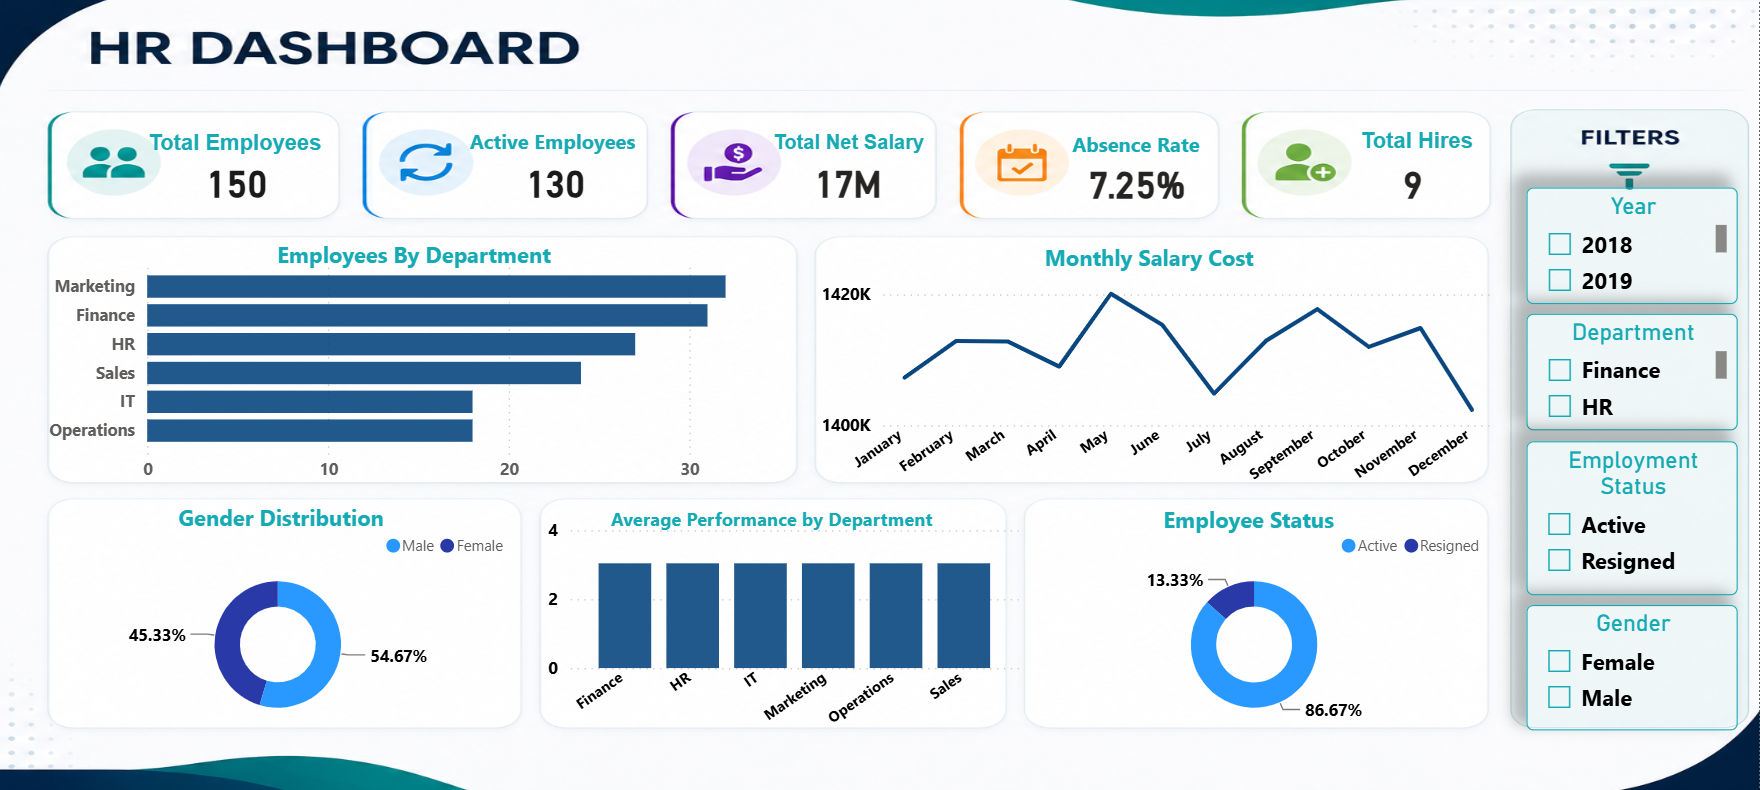

Layout of this report page (visuals, bound fields, positions):
{"tool":"powerbi","page":{"name":"HR Dashboard","canvas":[1280,720],"ordinal":0},"visuals":[{"type":"card","fields":{"Values":["Messures.Total Employees"]},"box":[131.8,102.9,82.4,60.4],"z":0},{"type":"textbox","box":[103.7,89.7,188.5,31.1],"z":1000},{"type":"card","fields":{"Values":["Messures.Active Employees"]},"box":[363.3,96.5,82.4,73.2],"z":2000},{"type":"textbox","box":[337.1,87.4,151.9,35.7],"z":3000},{"type":"textbox","box":[558.5,89.2,143.7,32],"z":4000},{"type":"card","fields":{"Values":["Messures.Total Net Salary"]},"box":[580.2,112.9,75,40.3],"z":5000},{"type":"textbox","box":[775.2,89.7,103.4,34.8],"z":6000},{"type":"card","fields":{"Values":["Messures.Absence Rate"]},"box":[782.5,108.8,89.7,48.5],"z":7000},{"type":"textbox","box":[985.1,88.4,107.3,33.7],"z":8000},{"type":"card","fields":{"Values":["Messures.Total Hires"]},"box":[1009.5,116.1,38.4,33.9],"z":9000},{"type":"clusteredBarChart","fields":{"Y":["Messures.Total Employees"],"Category":["Employees.Department"]},"box":[30.2,179.4,550,180.3],"z":10000},{"type":"textbox","box":[197.7,169.3,218.7,32.9],"z":11000},{"type":"lineChart","fields":{"Category":["Calendar.Month Name"],"Y":["Messures.Total Net Salary"]},"box":[593.1,152.8,498.8,207.8],"z":12000},{"type":"textbox","box":[755,171.1,173,35.7],"z":13000},{"type":"donutChart","fields":{"Category":["Employees.Gender"],"Y":["Messures.Total Employees"]},"box":[30.2,378.1,345.9,153.8],"z":14000},{"type":"textbox","box":[125.4,359.7,166.6,33.9],"z":15000},{"type":"donutChart","fields":{"Y":["Messures.Total Employees"],"Category":["Employees.Status"]},"box":[740.4,378.1,345.9,153.8],"z":16000},{"type":"group","id":"g1","title":"Group 1","box":[394.5,372.2,352.4,165.7],"z":17000},{"type":"textbox","box":[842,361.5,141.9,36.6],"z":18000},{"type":"clusteredColumnChart","fields":{"Category":["Employees.Department"],"Y":["Messures.Average Performance Score"]},"box":[394.5,372.2,352.4,165.2],"z":18001,"group":"g2"},{"type":"group","id":"g2","title":"Group 2","box":[394.5,372.2,352.4,165.2],"z":18005,"group":"g1"},{"type":"slicer","title":"Department","fields":{"Values":["Employees.Department"]},"box":[1111.1,227.9,153.8,85.1],"z":20000},{"type":"textbox","box":[440.2,363.3,261.7,27.5],"z":21000},{"type":"slicer","title":"Gender","fields":{"Values":["Employees.Gender"]},"box":[1111.1,440.2,153.8,91.5],"z":22000},{"type":"slicer","title":"Employment Status","fields":{"Values":["Employees.Status"]},"box":[1111.1,321.2,153.8,111.7],"z":23000},{"type":"slicer","title":"Year","fields":{"Values":["Calendar.Year"]},"box":[1111.1,136.4,153.8,85.1],"z":23001}]}

Visuals, with their boxes on the page's 1280x720 design canvas (x1, y1, x2, y2). These are canvas units, not pixel positions in the 1760x790 screenshot, which may show the page scaled, cropped or inside an application window:
card - Messures.Total Employees: BBox(132, 103, 214, 163)
textbox: BBox(104, 90, 292, 121)
card - Messures.Active Employees: BBox(363, 96, 446, 170)
textbox: BBox(337, 87, 489, 123)
textbox: BBox(558, 89, 702, 121)
card - Messures.Total Net Salary: BBox(580, 113, 655, 153)
textbox: BBox(775, 90, 879, 124)
card - Messures.Absence Rate: BBox(782, 109, 872, 157)
textbox: BBox(985, 88, 1092, 122)
card - Messures.Total Hires: BBox(1010, 116, 1048, 150)
clusteredBarChart - Messures.Total Employees x Employees.Department: BBox(30, 179, 580, 360)
textbox: BBox(198, 169, 416, 202)
lineChart - Calendar.Month Name x Messures.Total Net Salary: BBox(593, 153, 1092, 361)
textbox: BBox(755, 171, 928, 207)
donutChart - Employees.Gender x Messures.Total Employees: BBox(30, 378, 376, 532)
textbox: BBox(125, 360, 292, 394)
donutChart - Messures.Total Employees x Employees.Status: BBox(740, 378, 1086, 532)
"Group 1" group: BBox(394, 372, 747, 538)
textbox: BBox(842, 362, 984, 398)
clusteredColumnChart - Employees.Department x Messures.Average Performance Score: BBox(394, 372, 747, 537)
"Group 2" group: BBox(394, 372, 747, 537)
"Department" slicer: BBox(1111, 228, 1265, 313)
textbox: BBox(440, 363, 702, 391)
"Gender" slicer: BBox(1111, 440, 1265, 532)
"Employment Status" slicer: BBox(1111, 321, 1265, 433)
"Year" slicer: BBox(1111, 136, 1265, 222)
